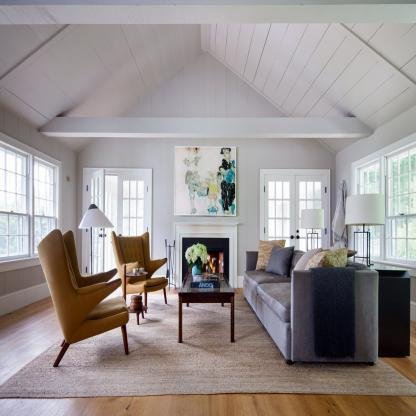chair: (32, 232, 134, 370), (109, 223, 170, 311)
door: (82, 167, 117, 285), (117, 169, 152, 283), (298, 168, 332, 254), (258, 173, 293, 248)
light: (342, 191, 391, 268), (76, 150, 113, 237), (297, 204, 325, 251)
sofa: (244, 242, 377, 374)
table: (177, 268, 234, 350), (375, 264, 412, 356)
